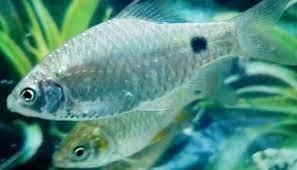Glass Perchlet: (7, 0, 297, 120), (54, 63, 233, 170)
